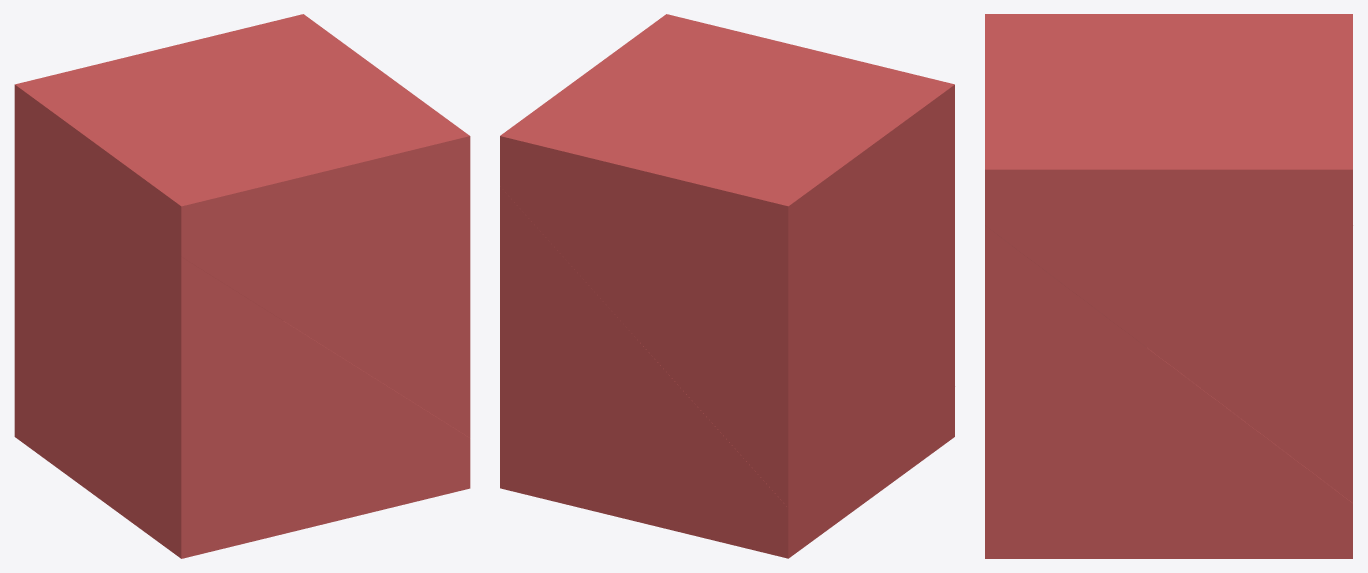
The model's file is hm_basket.glb.
3 views of the same model, side by side, from view 1: azimuth 30°, elevation 25°; view 2: azimuth 150°, elevation 25°; view 3: azimuth 270°, elevation 25° (orthographic). The views are drawn at different scales.
Visible parts, largest first — view 1: hm_basket_col; view 2: hm_basket_col; view 3: hm_basket_col.
Part boxes in pixels (bbox=[...]): hm_basket_col: bbox=[14, 14, 470, 558]; hm_basket_col: bbox=[500, 14, 954, 558]; hm_basket_col: bbox=[985, 14, 1352, 558].
Bounding box in the file's own units: 1.51 × 1.75 × 1.51.
